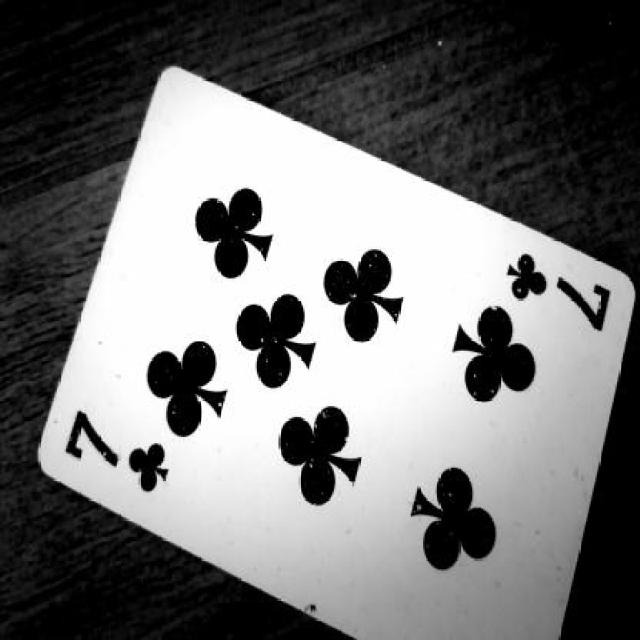7C: (69, 382, 185, 524), (499, 243, 630, 337)
